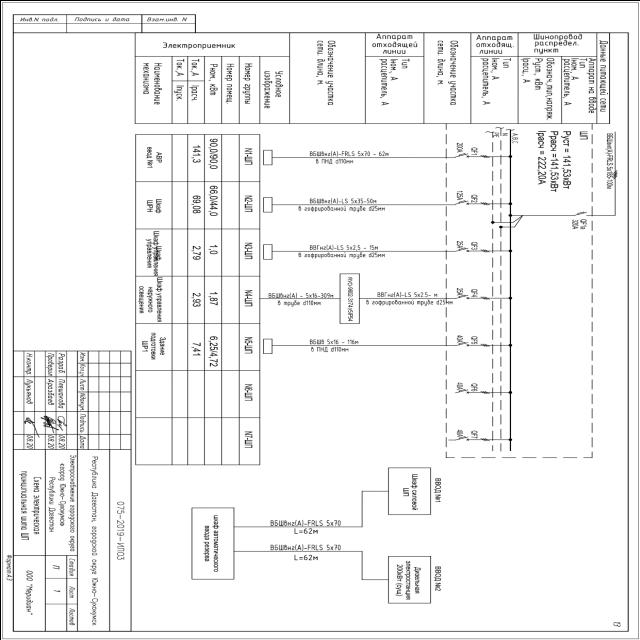-: (576, 128, 588, 140), (568, 218, 578, 230), (453, 188, 463, 200), (453, 141, 463, 153), (454, 380, 464, 389), (453, 333, 463, 342), (454, 239, 464, 247), (453, 428, 463, 436), (453, 286, 463, 294)
QF: (454, 198, 489, 206), (454, 150, 489, 158), (454, 434, 489, 442), (454, 341, 490, 348), (454, 387, 489, 394), (455, 293, 490, 300), (454, 245, 489, 252), (571, 208, 589, 216)
